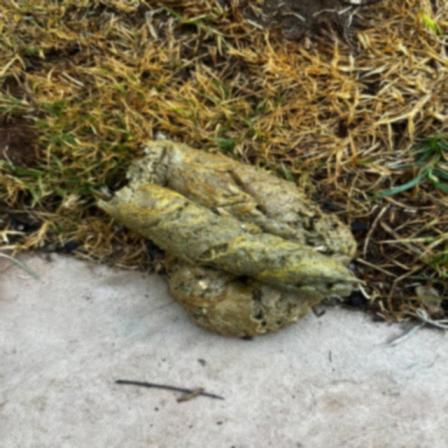dog-poop: (89, 135, 364, 348)
